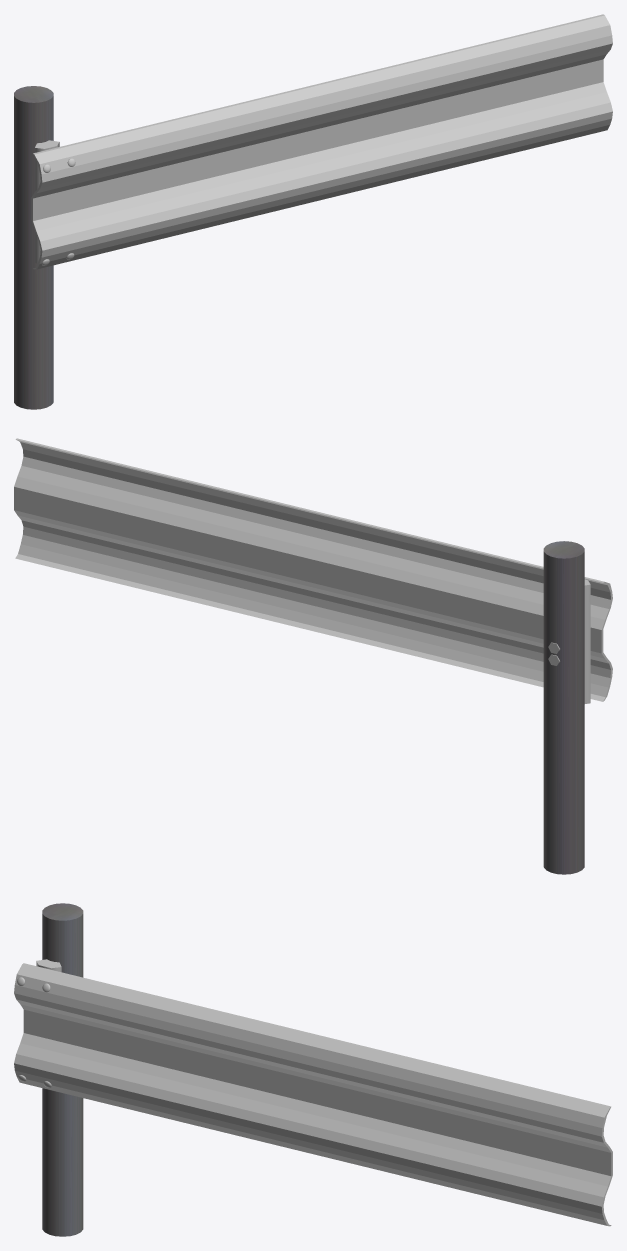
File: guardbar02.gltf
3 renders of one model, top to bottom at view 1: azimuth 30°, elevation 25°; view 2: azimuth 150°, elevation 25°; view 3: azimuth 330°, elevation 25°, orthographic. The views are drawn at different scales.
Parts seen in each view (by area): view 1: Cylinder010; view 2: Cylinder010; view 3: Cylinder010.
Boxes of the visible parts, box(x1,y1,x2,y2) form: Cylinder010: box(14, 14, 612, 409); Cylinder010: box(14, 438, 612, 874); Cylinder010: box(14, 903, 612, 1236).
Bounding box in the file's own units: 1.55 × 0.7988 × 0.1808.
2 materials, 1 textured.
